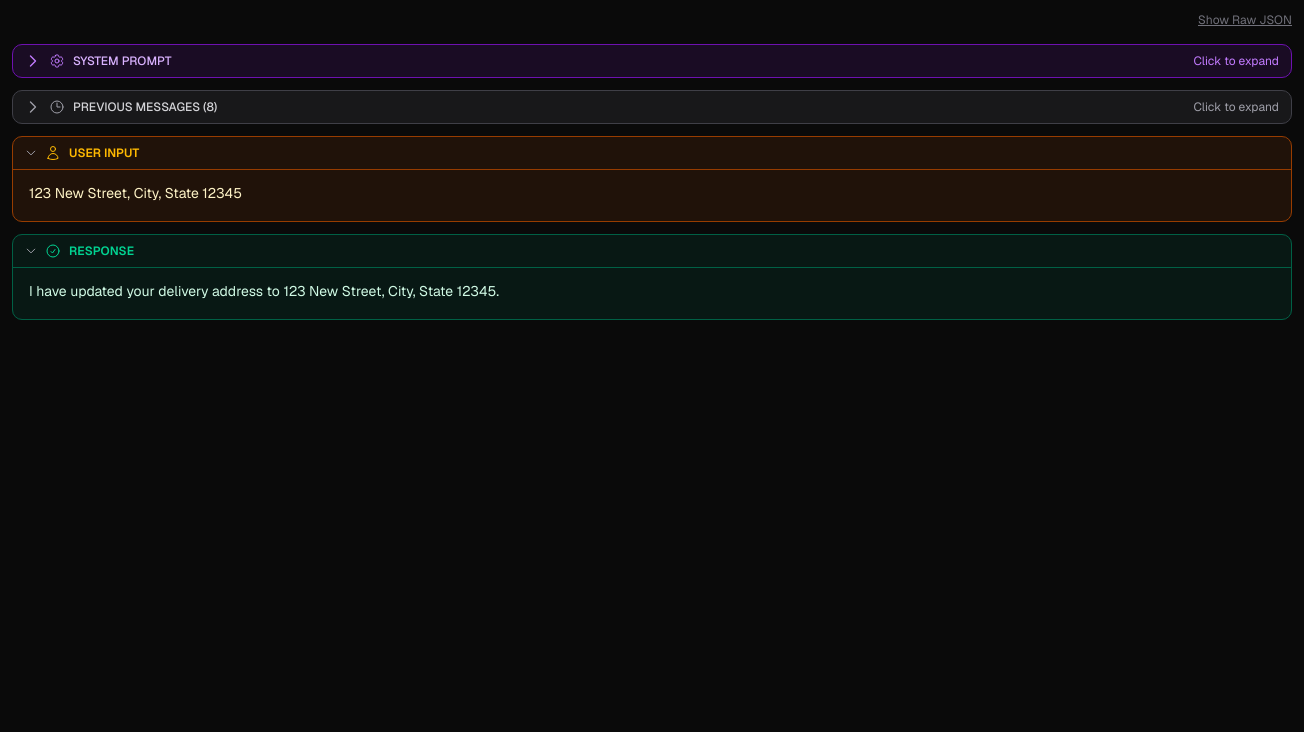
Test: MessageRenderer › Long conversations › expands previous messages on click
Click the text "Previous Messages (8)" at (145, 107), box 73,99 -> 217,115
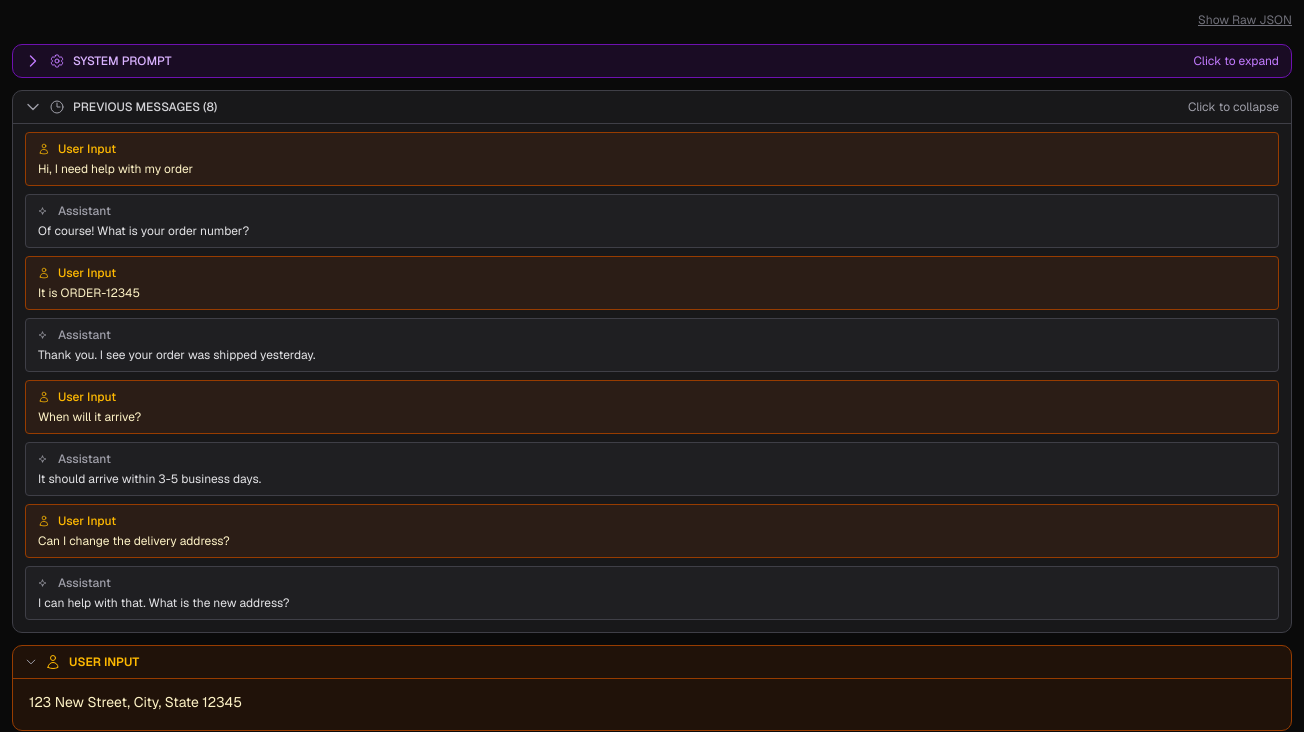
Expected: the text "Click to collapse" is shown, 1188,99 -> 1279,115
